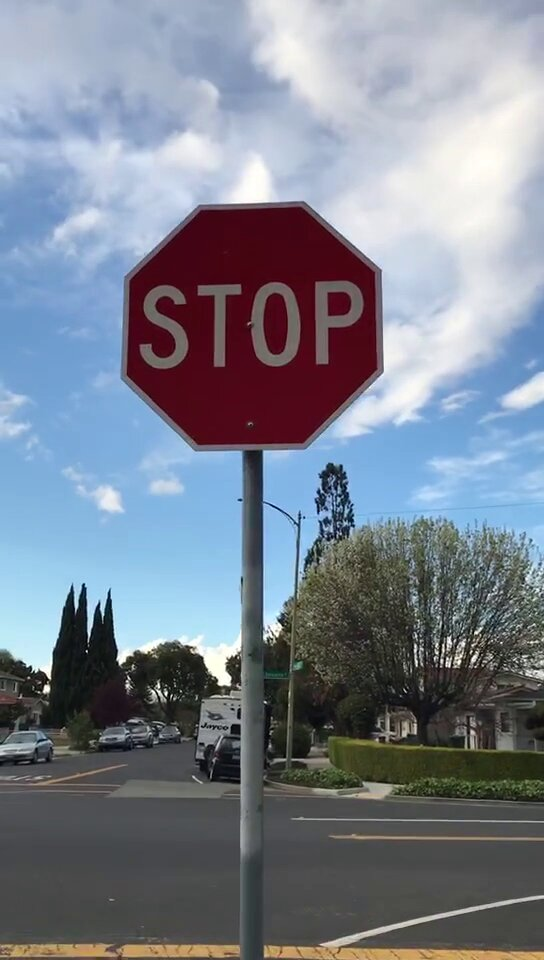stop_sign: (123, 206, 384, 445)
